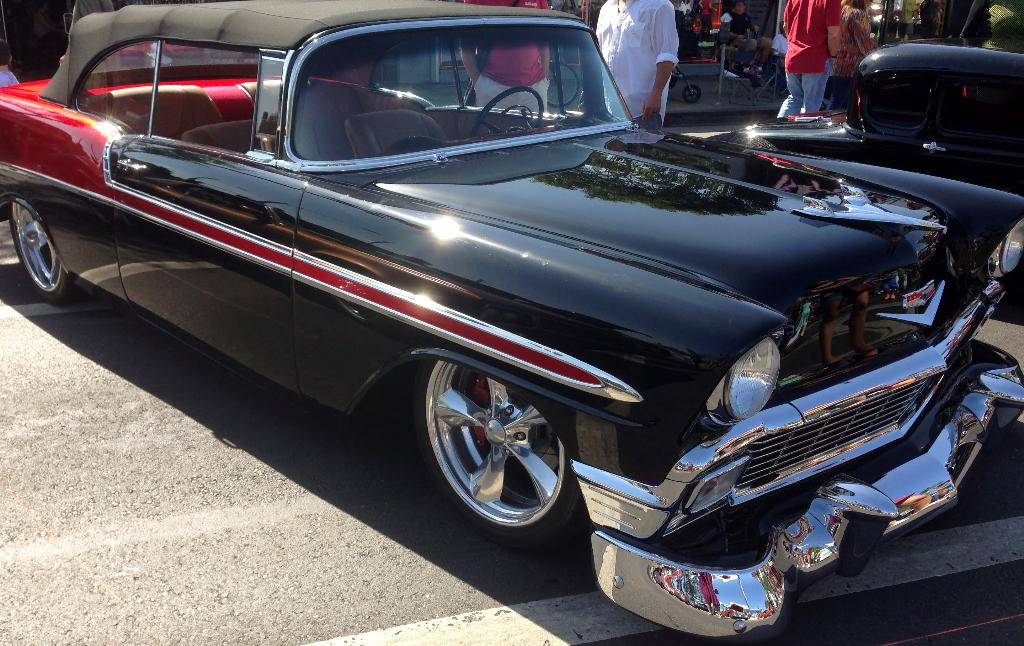Car: (12, 19, 963, 587), (760, 42, 1023, 198)
